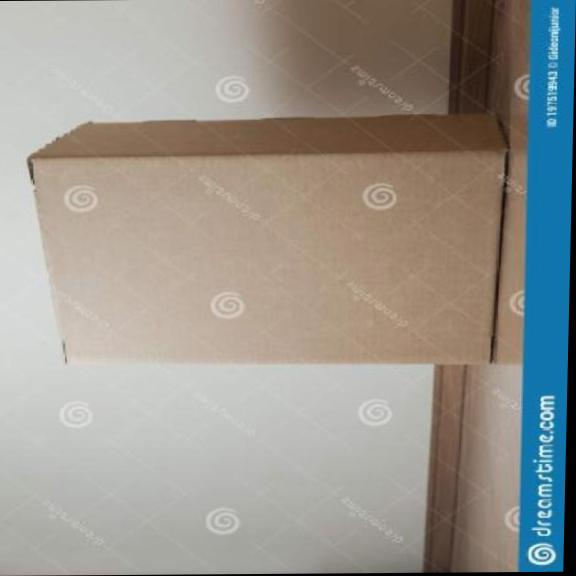Kertas: (26, 113, 508, 365)
